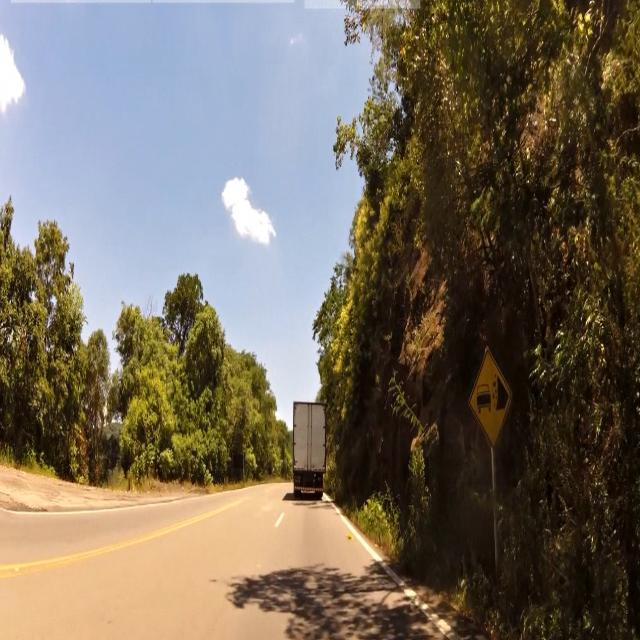A-27: (470, 346, 512, 452)
